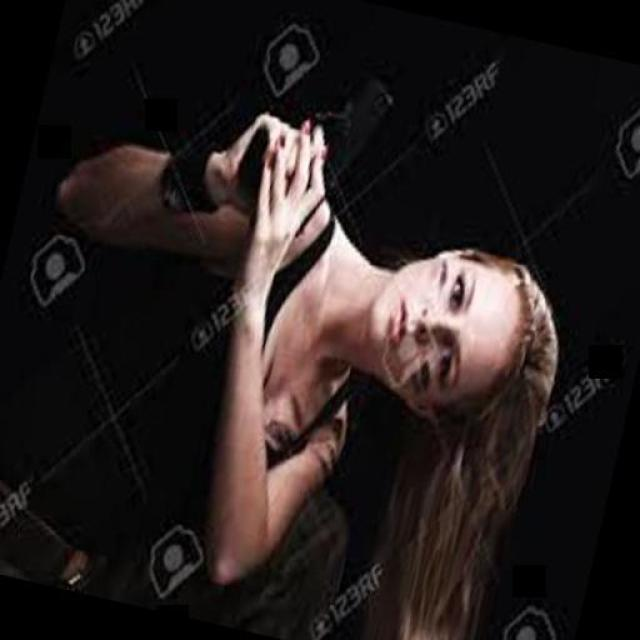gun: (215, 45, 394, 256)
